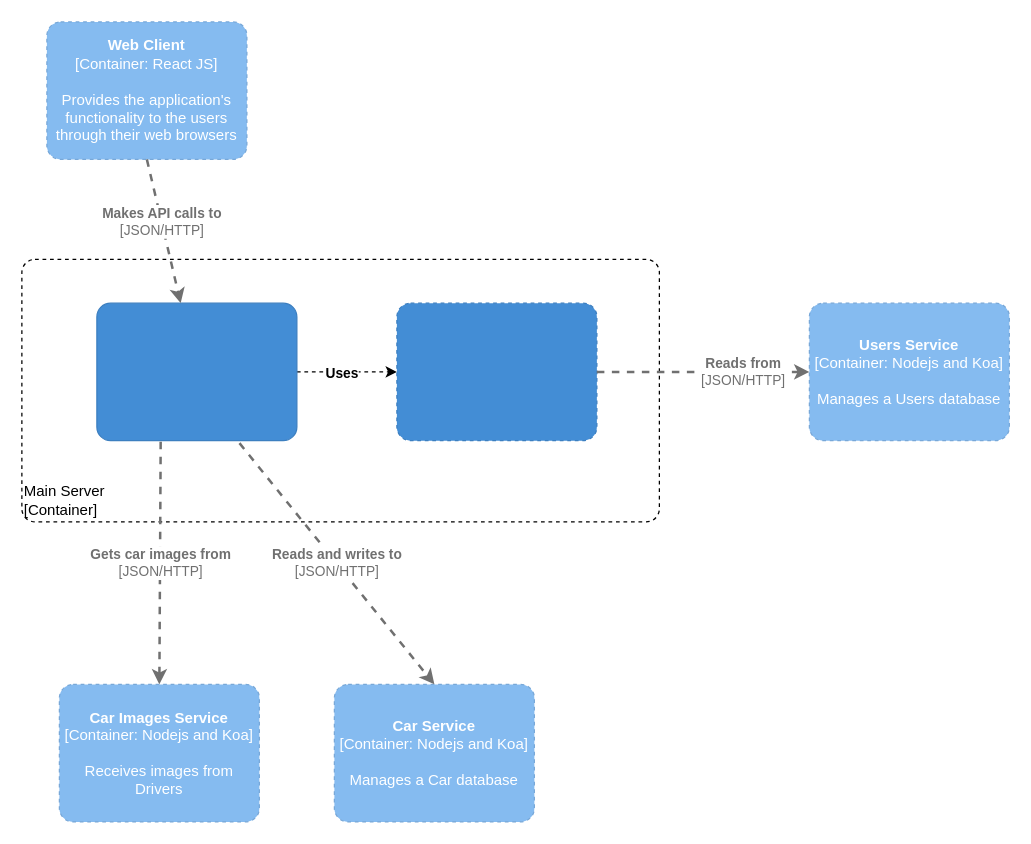
Some shapes in this 1031 by 844 pixel diagram are drawn without their labels. Here are the shapes that lost their labels. From the top down, the centre of each, then its label:
At (196,371): "Router [Component: Koa Router] Reroutes to other services".
At (496,371): "Authenticator [Component: Nodejs async function] Authenticates a user".
